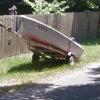Boat: (10, 6, 87, 70)
